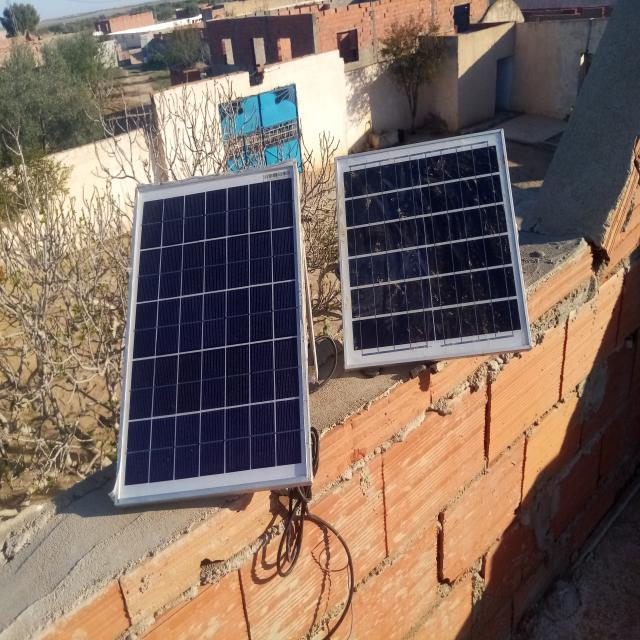faulty: (335, 129, 533, 366)
no faulty: (116, 162, 311, 502)
